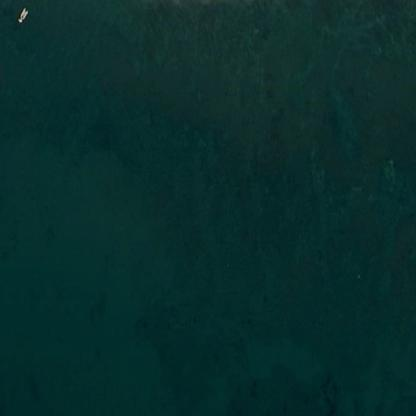ship: (15, 11, 27, 14)
